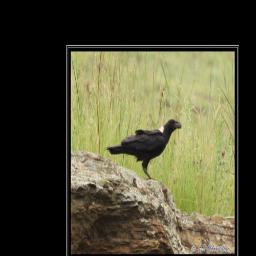Crow: (106, 118, 183, 180)
